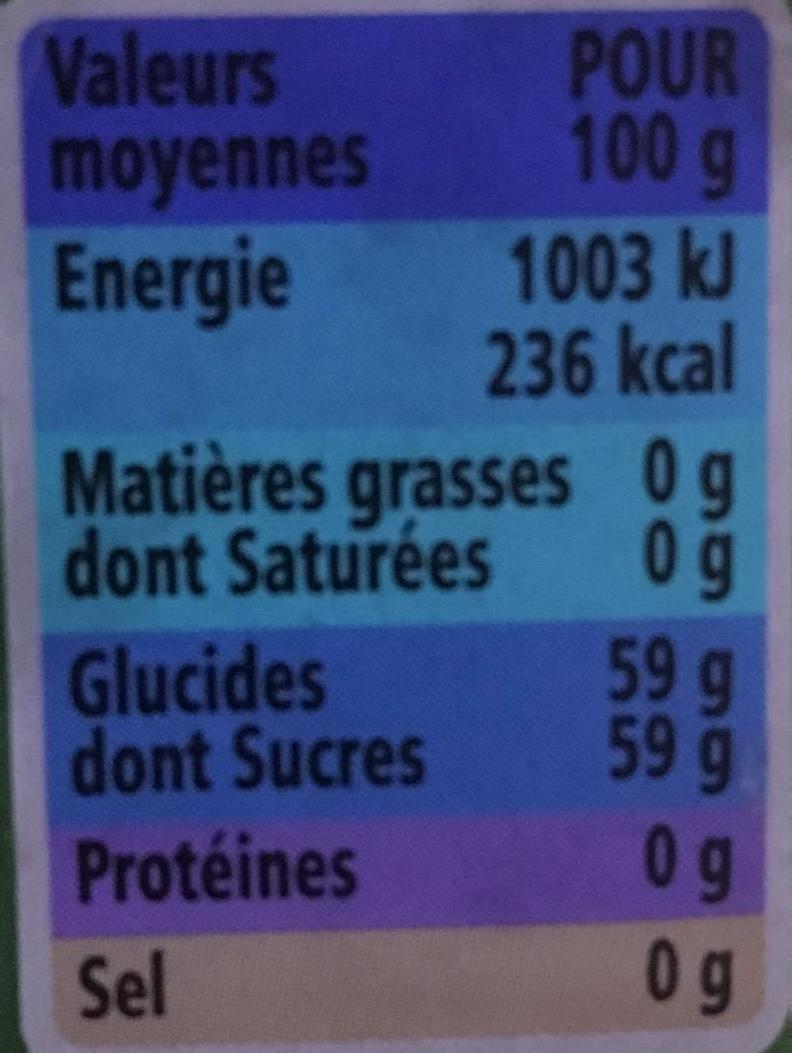column: (40, 42, 467, 1040), (488, 21, 744, 1016)
line: (60, 827, 737, 907), (51, 120, 734, 198), (63, 443, 731, 517), (63, 526, 733, 599), (83, 944, 738, 1017), (47, 328, 732, 397), (46, 39, 735, 104), (69, 726, 739, 792), (44, 238, 732, 302), (70, 641, 729, 705)
table: (21, 13, 789, 1053)
